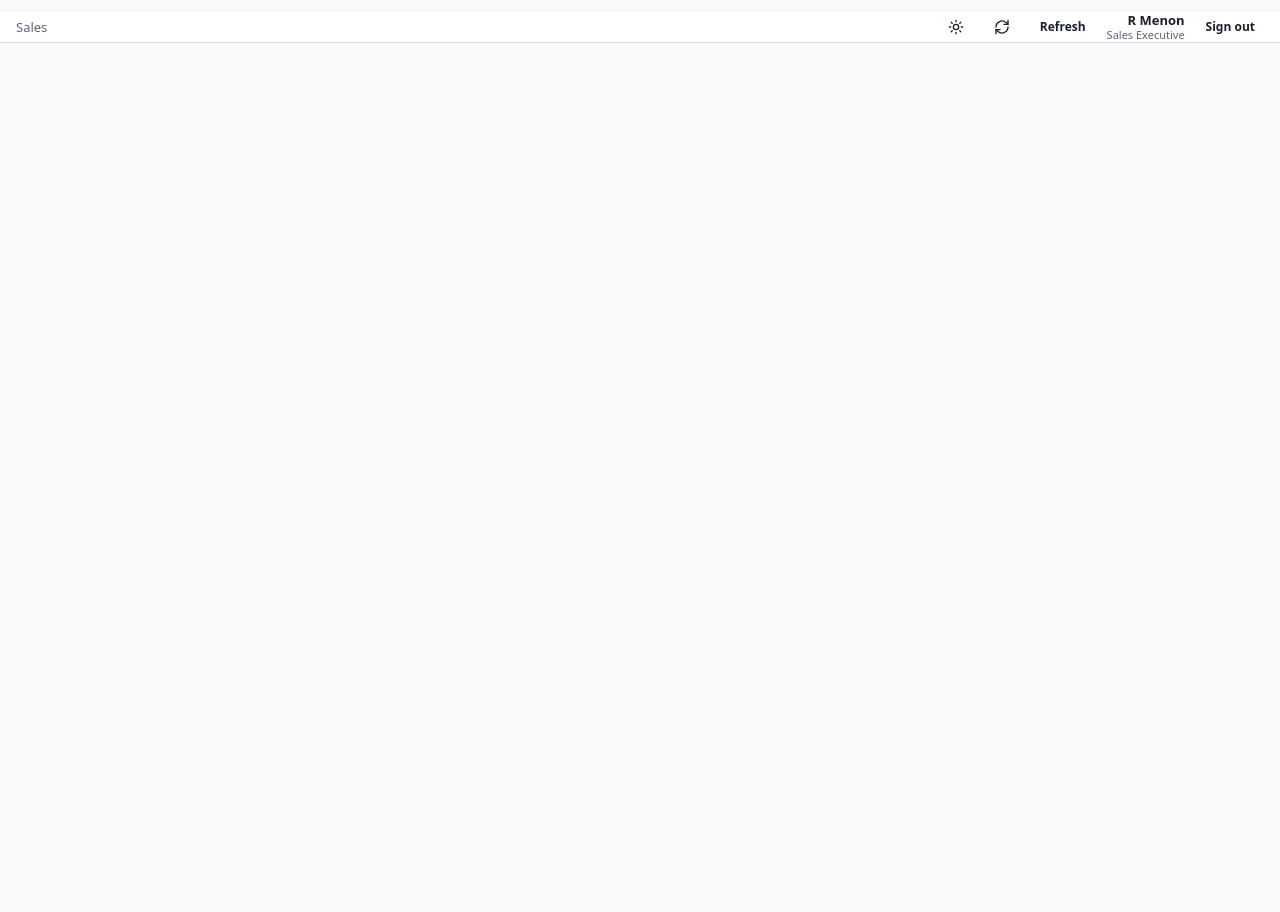
Test: TopBar › reports a sync failure
Click the button named "Sync job sheet": (1002, 27) [985,15,1019,39]
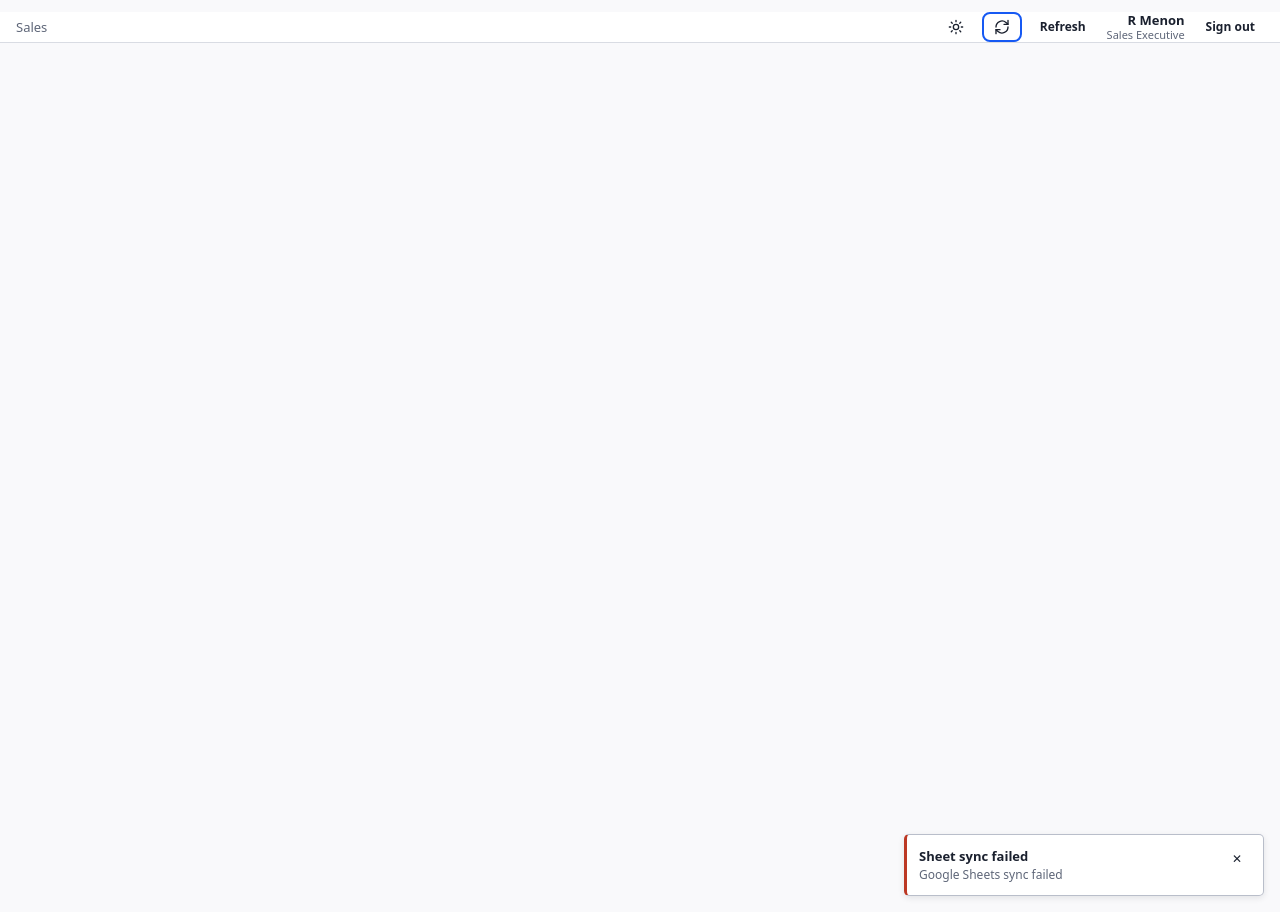
Check: the text "Google Sheets sync failed" is shown, box [919,866,1063,883]
